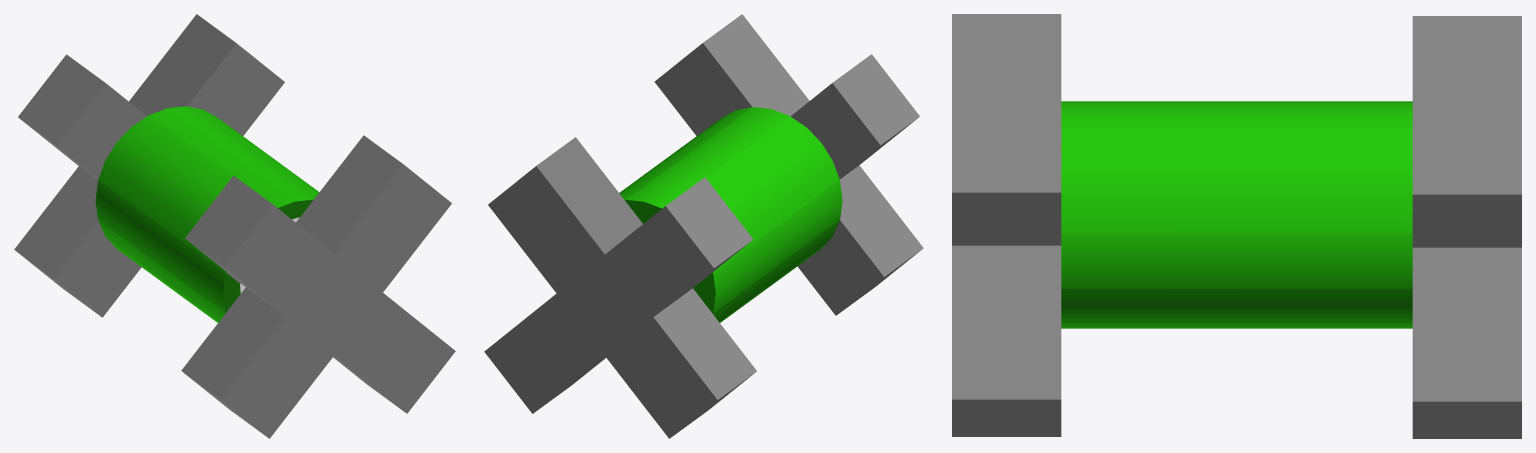
The model's file is winchNew.dae.
3 views of the same model, side by side, from view 1: azimuth 30°, elevation 25°; view 2: azimuth 150°, elevation 25°; view 3: azimuth 270°, elevation 25° (orthographic). The views are drawn at different scales.
Parts seen in each view (by area): view 1: SketchUp (×4); view 2: SketchUp (×5); view 3: SketchUp (×3).
Boxes of the visible parts, x1,y1,x2,y2 form: SketchUp (×4): (14,14,455,438); SketchUp (×5): (484,14,923,438); SketchUp (×3): (952,14,1521,438).
Size of the model in its own units: 32.28 by 49.21 by 33.03.
